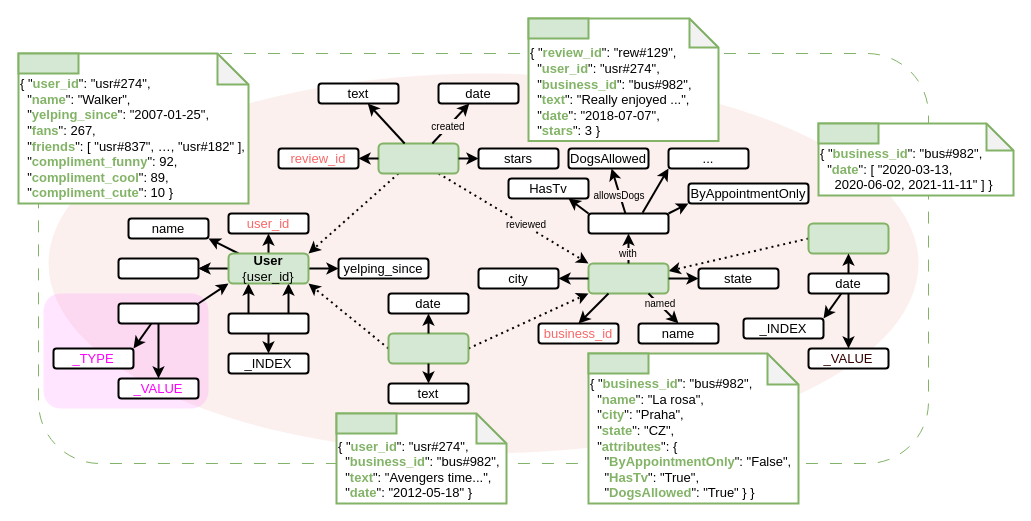
Image size: 1031x521. Some labels were removed from this diagram. The shapes that lost their labels are listed below. From the top down, each one's centre as x and y in pixels, then its label:
At (x=558, y=28): "Review".
At (x=48, y=63): "User".
At (x=848, y=133): "Checkin".
At (x=418, y=158): "Review {review_id}".
At (x=628, y=223): "attributes".
At (x=848, y=238): "Checkin {business_id}".
At (x=158, y=268): "fans".
At (x=628, y=278): "Business {business_id}".
At (x=158, y=313): "compliment".
At (x=268, y=323): "friend".
At (x=428, y=348): "Tip {user_id, business_id}".
At (x=618, y=363): "Business".
At (x=366, y=423): "Tip".
